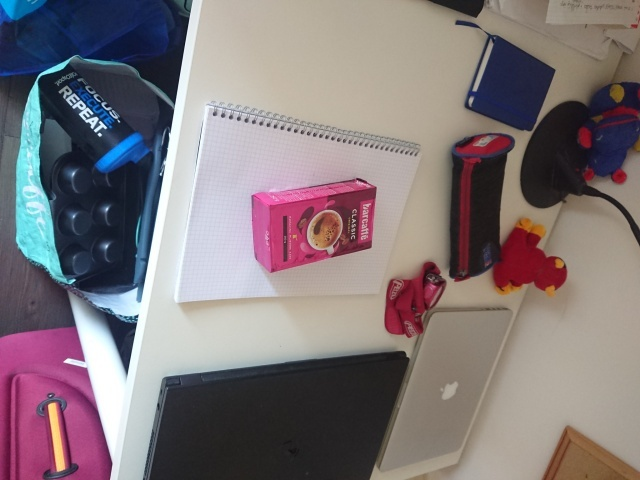Barcaffe Classic Original 225g: (249, 176, 379, 275)
